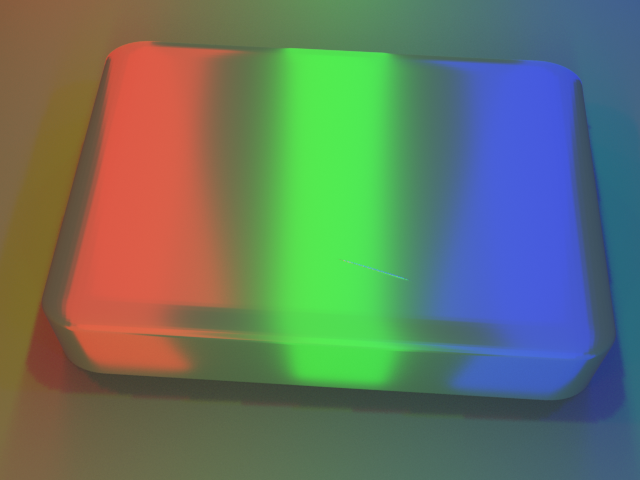scratch: (273, 211, 483, 338)
